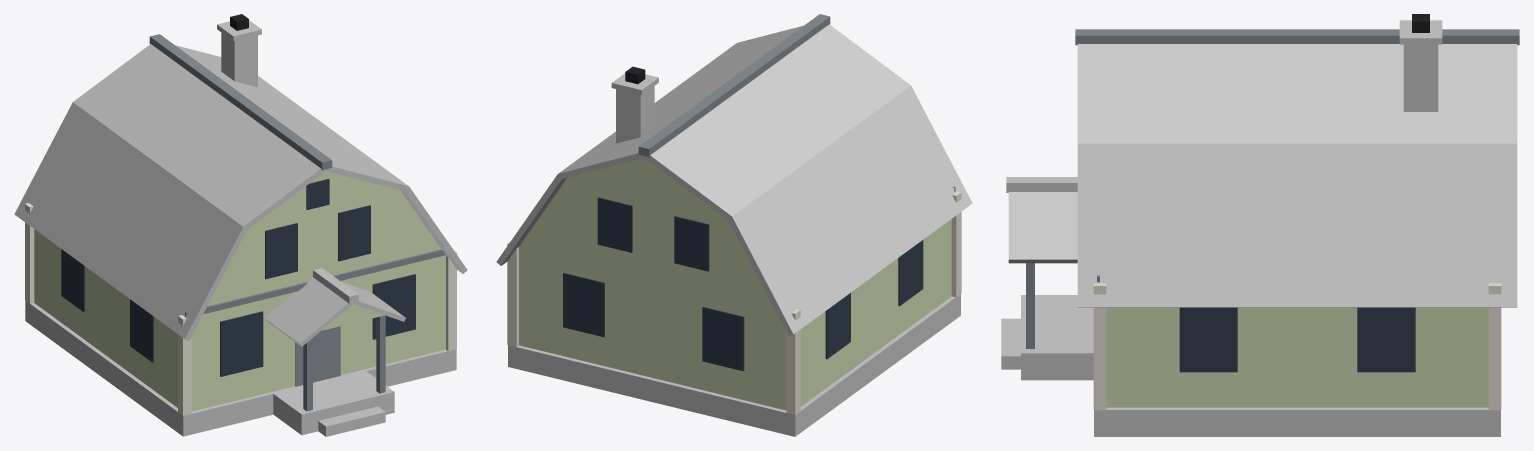
The model's file is generated.gambrel_house.gltf.
The picture shows the model from 3 angles, left to right: view 1: azimuth 30°, elevation 25°; view 2: azimuth 150°, elevation 25°; view 3: azimuth 270°, elevation 25°; orthographic projection. The views are drawn at different scales.
Parts seen in each view (by area): view 1: gambrel_house; view 2: gambrel_house; view 3: gambrel_house.
Boxes of the visible parts, left/top/right/bottom form: gambrel_house: left=14, top=14, right=467, bottom=436; gambrel_house: left=496, top=14, right=972, bottom=436; gambrel_house: left=1001, top=14, right=1519, bottom=436.
Size of the model in its own units: 8.53 by 8.1 by 10.5.
